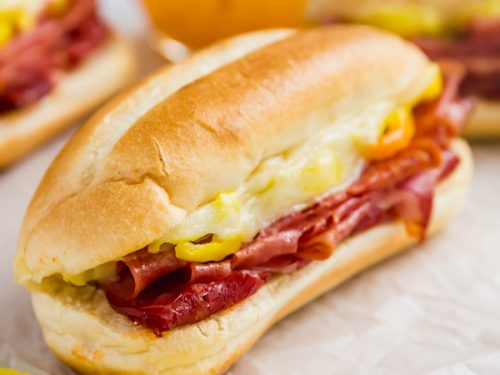sandwich: (1, 1, 498, 375)
